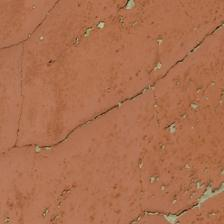Crack: (68, 17, 93, 128), (96, 0, 126, 74), (191, 0, 224, 66), (112, 84, 160, 126)
